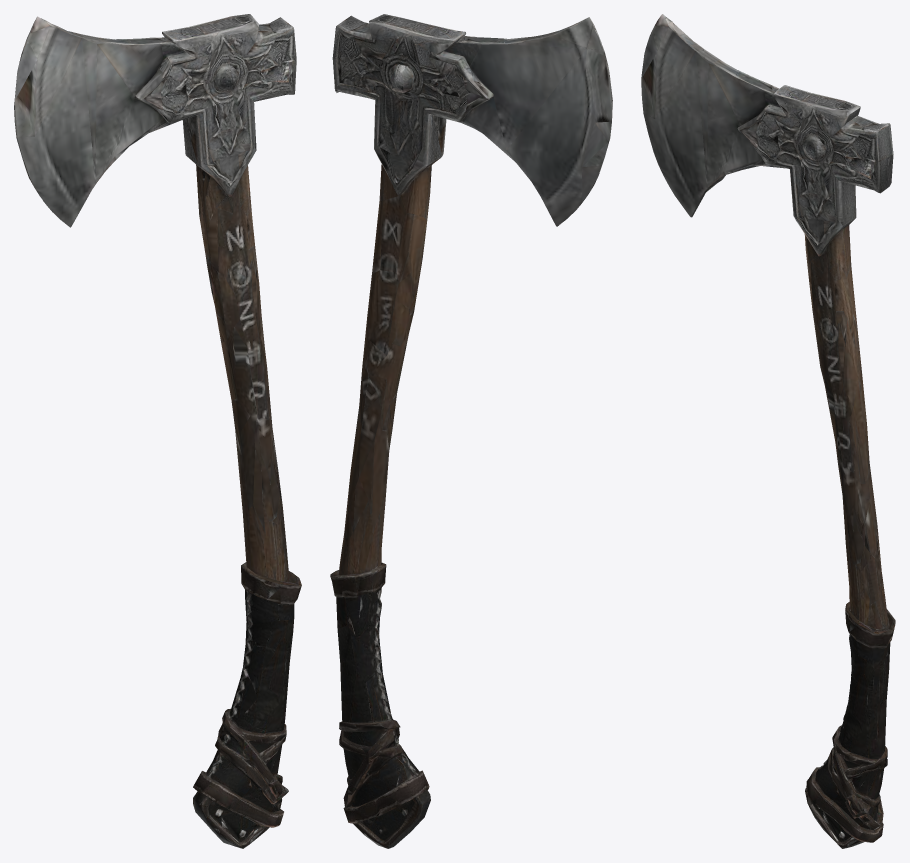
File: weapon-hand-axe.glb
3 renders of one model, left to right at view 1: azimuth 30°, elevation 25°; view 2: azimuth 150°, elevation 25°; view 3: azimuth 330°, elevation 25°, orthographic. The views are drawn at different scales.
Bounding box in the file's own units: 0.2014 × 0.5999 × 0.0371.
1 material, 1 textured.
